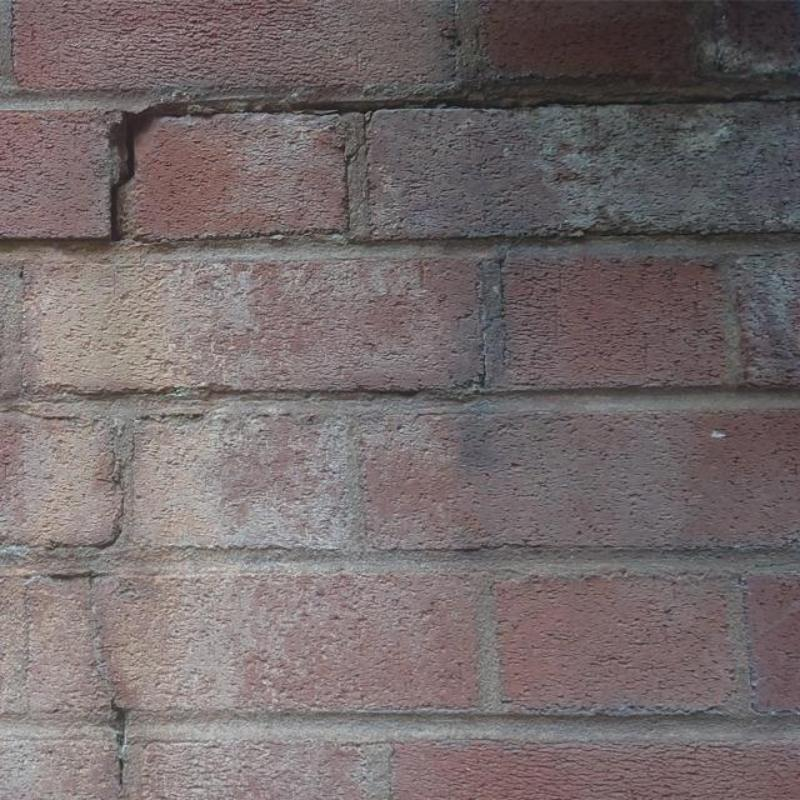pothole: (258, 92, 799, 114), (106, 103, 194, 236), (89, 577, 129, 796)
